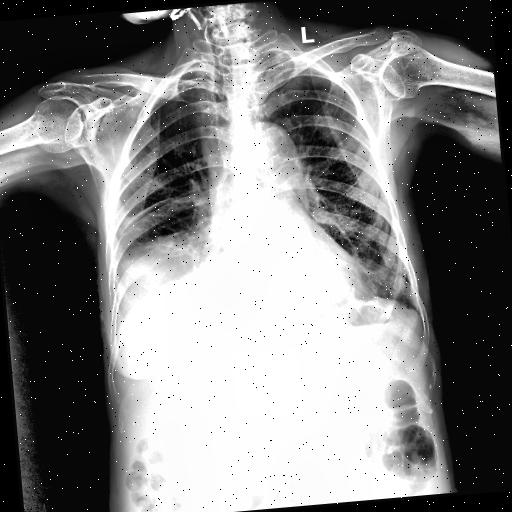0- Aortic enlargement: (244, 118, 306, 214), (242, 118, 304, 188), (238, 118, 304, 183)
10- Pleural effusion: (110, 258, 142, 320)
11- Pleural thickening: (112, 198, 172, 238), (110, 258, 142, 320), (192, 69, 215, 83)
13- Pulmonary fibrosis: (140, 212, 202, 264), (118, 194, 178, 232)
3- Cardiomegaly: (192, 242, 368, 322), (200, 232, 366, 312)
4- Consolidation: (108, 225, 226, 331)
7- Lung Opacity: (108, 225, 226, 331), (108, 240, 210, 296), (136, 236, 210, 279)
